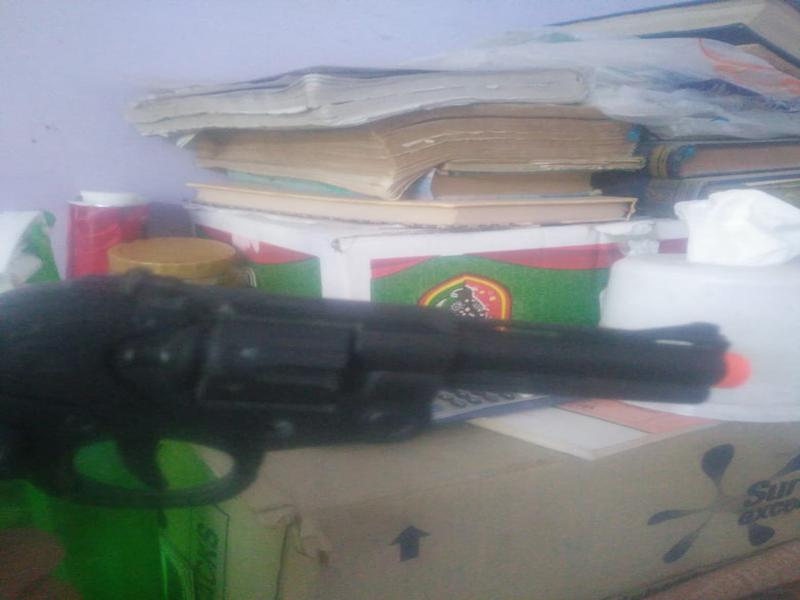gun: (9, 255, 755, 532)
